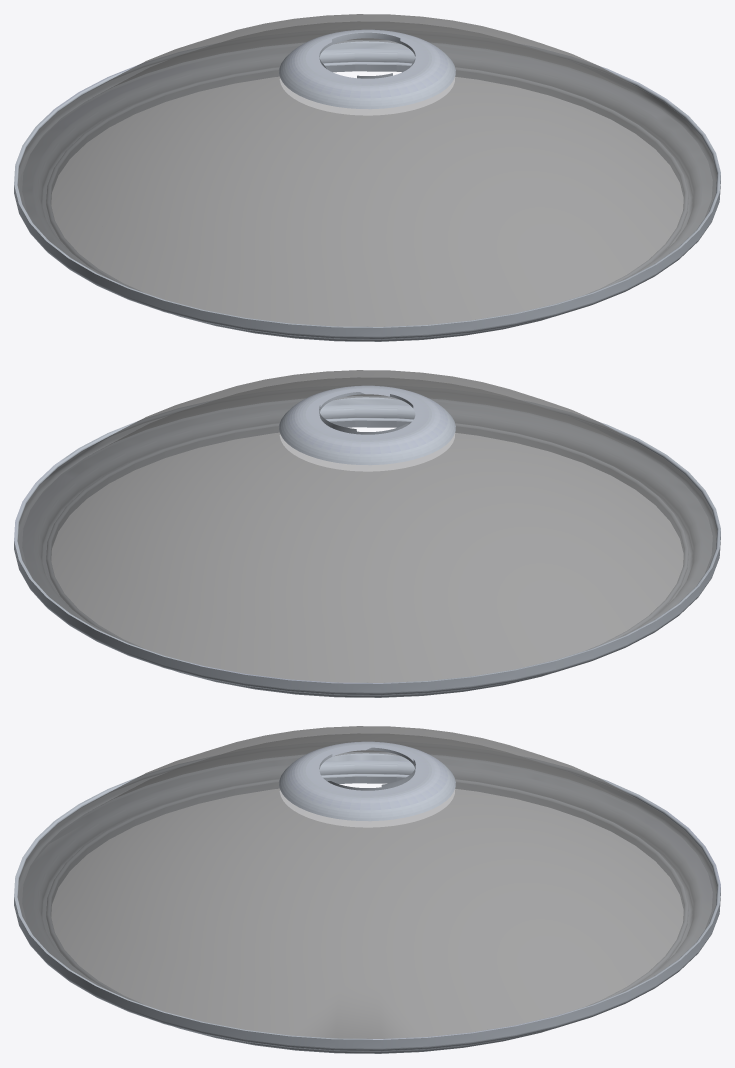
The model's file is original-10-bottom.obj.
3 views of the same model, one above another, from view 1: azimuth 30°, elevation 25°; view 2: azimuth 150°, elevation 25°; view 3: azimuth 270°, elevation 25° (orthographic).
Parts seen in each view (by area): view 1: Pot_Lid1/Pot_Lid/mesh17/mesh17-geometry#mesh17-geometry.001; view 2: Pot_Lid1/Pot_Lid/mesh17/mesh17-geometry#mesh17-geometry.001; view 3: Pot_Lid1/Pot_Lid/mesh17/mesh17-geometry#mesh17-geometry.001.
Boxes of the visible parts, left/top/right/bottom form: Pot_Lid1/Pot_Lid/mesh17/mesh17-geometry#mesh17-geometry.001: left=14, top=14, right=720, bottom=341; Pot_Lid1/Pot_Lid/mesh17/mesh17-geometry#mesh17-geometry.001: left=14, top=370, right=720, bottom=697; Pot_Lid1/Pot_Lid/mesh17/mesh17-geometry#mesh17-geometry.001: left=14, top=726, right=720, bottom=1053.
Size of the model in its own units: 1.6 by 0.3804 by 1.6.
